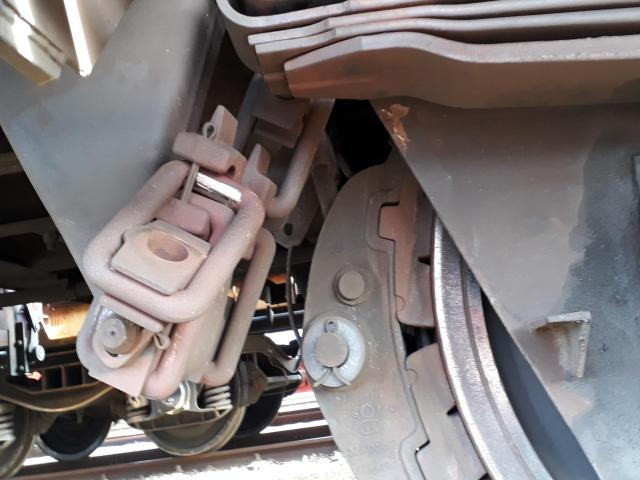blattfederww: (207, 2, 640, 81)
